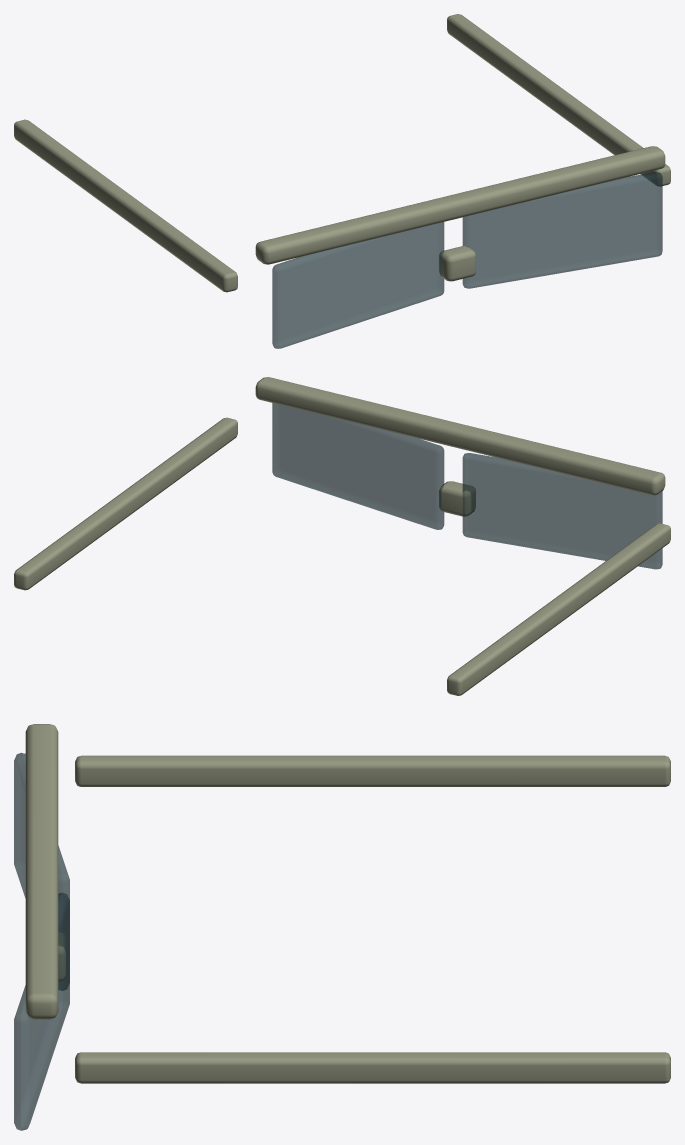
The model's file is glasses_ballistic_T.glb.
3 views of the same model, one above another, from view 1: azimuth 30°, elevation 25°; view 2: azimuth 150°, elevation 25°; view 3: azimuth 270°, elevation 25° (orthographic). The views are drawn at different scales.
Parts seen in each view (by area): view 1: glasses@Head; view 2: glasses@Head; view 3: glasses@Head.
Boxes of the visible parts, x1,y1,x2,y2 form: glasses@Head: (14,14,670,348); glasses@Head: (14,377,670,695); glasses@Head: (14,724,670,1130).
Bounding box in the file's own units: 0.1783 × 0.0385 × 0.1614.
